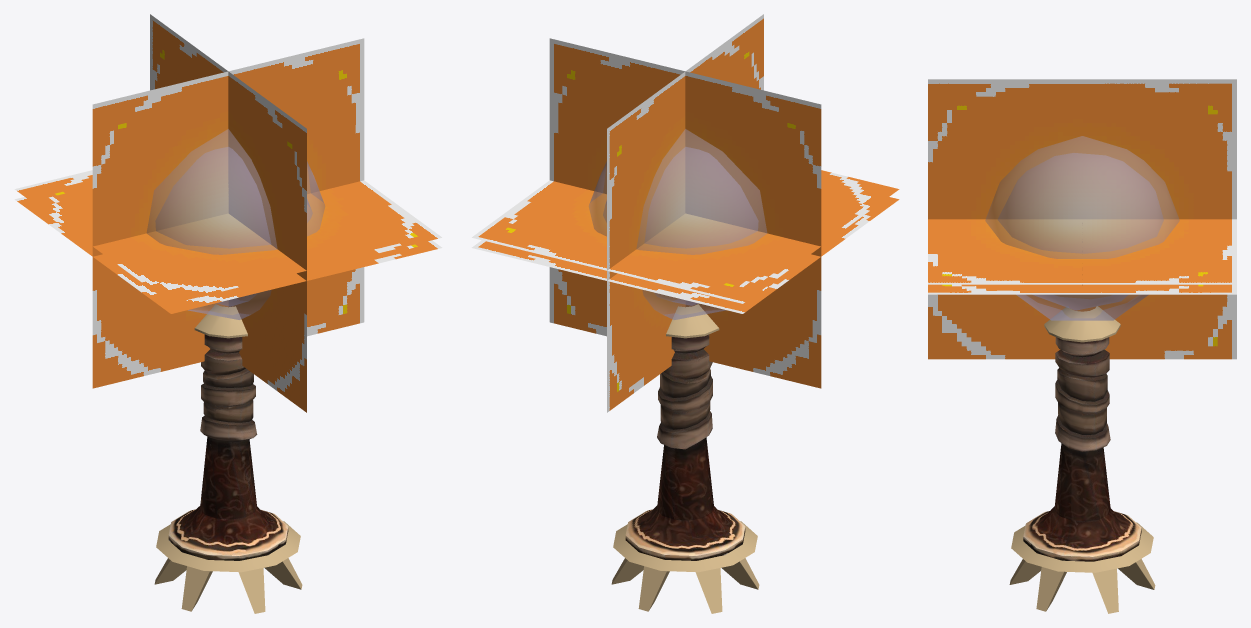
File: Script-Wand-4-orange.fbx
The picture shows the model from 3 angles, left to right: view 1: azimuth 30°, elevation 25°; view 2: azimuth 150°, elevation 25°; view 3: azimuth 270°, elevation 25°; orthographic projection.
Visible parts, largest first — view 1: Plane, Cylinder.001; view 2: Plane, Cylinder.001; view 3: Plane, Cylinder.001.
Boxes of the visible parts, left/top/right/bottom form: Plane: left=14, top=14, right=442, bottom=412; Cylinder.001: left=147, top=129, right=324, bottom=613; Plane: left=471, top=14, right=899, bottom=412; Cylinder.001: left=589, top=129, right=766, bottom=613; Plane: left=928, top=79, right=1236, bottom=359; Cylinder.001: left=985, top=136, right=1179, bottom=613.
Bounding box in the file's own units: 21.81 × 39.41 × 21.81.
4 materials, 2 textured.
